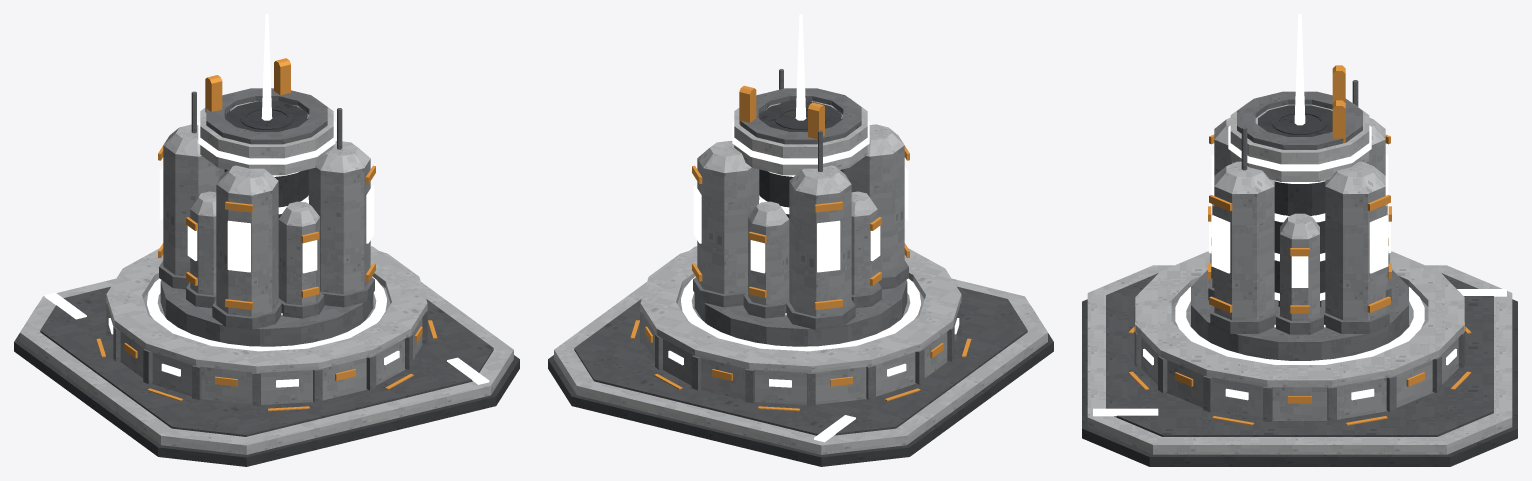
Rendered from power_ii_lod1.glb.
The picture shows the model from 3 angles, left to right: view 1: azimuth 30°, elevation 25°; view 2: azimuth 150°, elevation 25°; view 3: azimuth 270°, elevation 25°; orthographic projection. The views are drawn at different scales.
Parts seen in each view (by area): view 1: power_ii_base_body.001, power_ii_base_glow.001, power_ii_base_trim.001, power_ii_core_glow.001, power_ii_conduit_glow.001, power_ii_beam_glow.001; view 2: power_ii_base_body.001, power_ii_base_glow.001, power_ii_base_trim.001, power_ii_core_glow.001, power_ii_beam_glow.001; view 3: power_ii_base_body.001, power_ii_base_glow.001, power_ii_base_trim.001, power_ii_core_glow.001, power_ii_conduit_glow.001, power_ii_beam_glow.001, power_ii_core_body.001.
Part boxes in pixels (x1=…): power_ii_base_body.001: x1=14, y1=88, x2=519, y2=466; power_ii_base_glow.001: x1=108, y1=121, x2=399, y2=387; power_ii_base_trim.001: x1=96, y1=58, x2=437, y2=411; power_ii_core_glow.001: x1=147, y1=171, x2=386, y2=351; power_ii_conduit_glow.001: x1=44, y1=292, x2=489, y2=384; power_ii_beam_glow.001: x1=261, y1=14, x2=272, y2=120; power_ii_base_body.001: x1=548, y1=69, x2=1053, y2=466; power_ii_base_glow.001: x1=668, y1=121, x2=959, y2=387; power_ii_base_trim.001: x1=630, y1=85, x2=971, y2=411; power_ii_core_glow.001: x1=681, y1=171, x2=920, y2=351; power_ii_beam_glow.001: x1=795, y1=14, x2=806, y2=120; power_ii_base_body.001: x1=1082, y1=80, x2=1517, y2=466; power_ii_base_glow.001: x1=1143, y1=125, x2=1456, y2=400; power_ii_base_trim.001: x1=1128, y1=65, x2=1471, y2=425; power_ii_core_glow.001: x1=1175, y1=180, x2=1424, y2=364; power_ii_conduit_glow.001: x1=1093, y1=289, x2=1506, y2=416; power_ii_beam_glow.001: x1=1294, y1=14, x2=1305, y2=125; power_ii_core_body.001: x1=1272, y1=110, x2=1327, y2=134.
Bounding box in the file's own units: 4 × 3.65 × 4.
3 materials, 1 textured.
